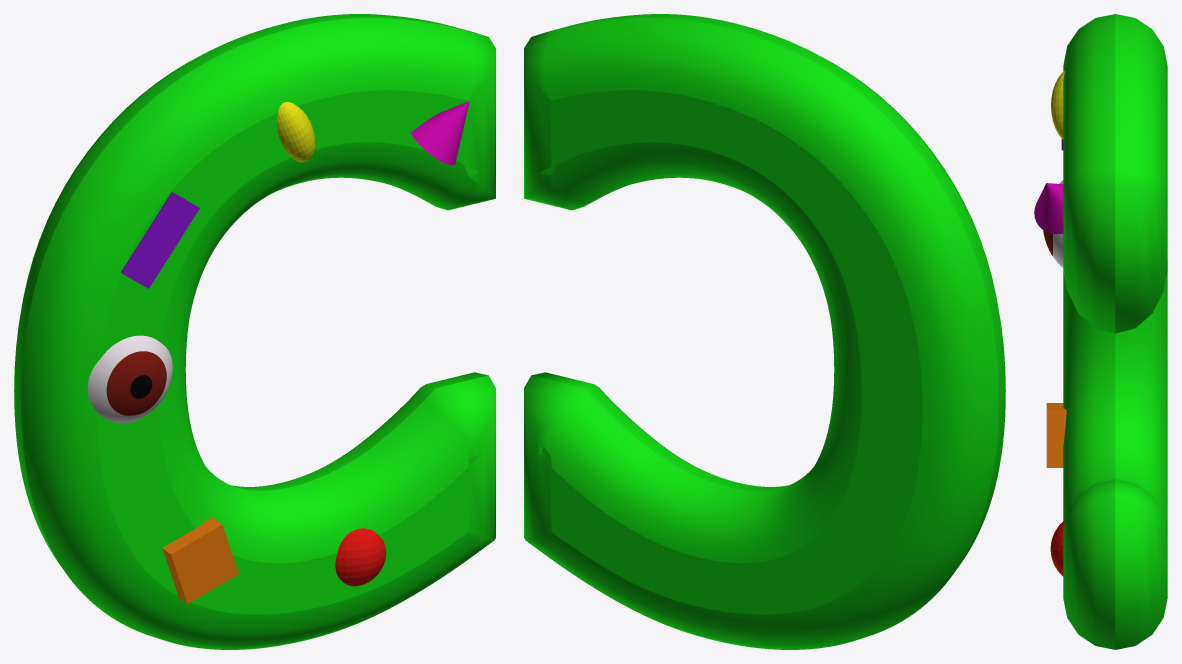
Rendered from c_green.fbx.
3 renders of one model, left to right at view 1: azimuth 30°, elevation 25°; view 2: azimuth 150°, elevation 25°; view 3: azimuth 270°, elevation 25°, orthographic. The views are drawn at different scales.
Visible parts, largest first — view 1: Text, Sphere, Cube, Cube.001, Sphere.001, Cone, Sphere.002; view 2: Text; view 3: Text, Cone, Cube, Sphere.002, Sphere.001, Sphere.
Boxes of the visible parts, x1,y1,x2,y2 form: Text: (14,14,495,649); Sphere: (87,335,172,423); Cube: (162,517,238,603); Cube.001: (120,192,199,288); Sphere.001: (335,528,386,586); Cone: (410,101,469,165); Sphere.002: (276,102,314,162); Text: (524,14,1005,649); Text: (1063,14,1167,649); Cone: (1034,183,1063,234); Cube: (1046,403,1066,467); Sphere.002: (1051,71,1064,139); Sphere.001: (1050,520,1065,576); Sphere: (1043,180,1063,267).
Size of the model in its own units: 95.44 by 119 by 25.21.
